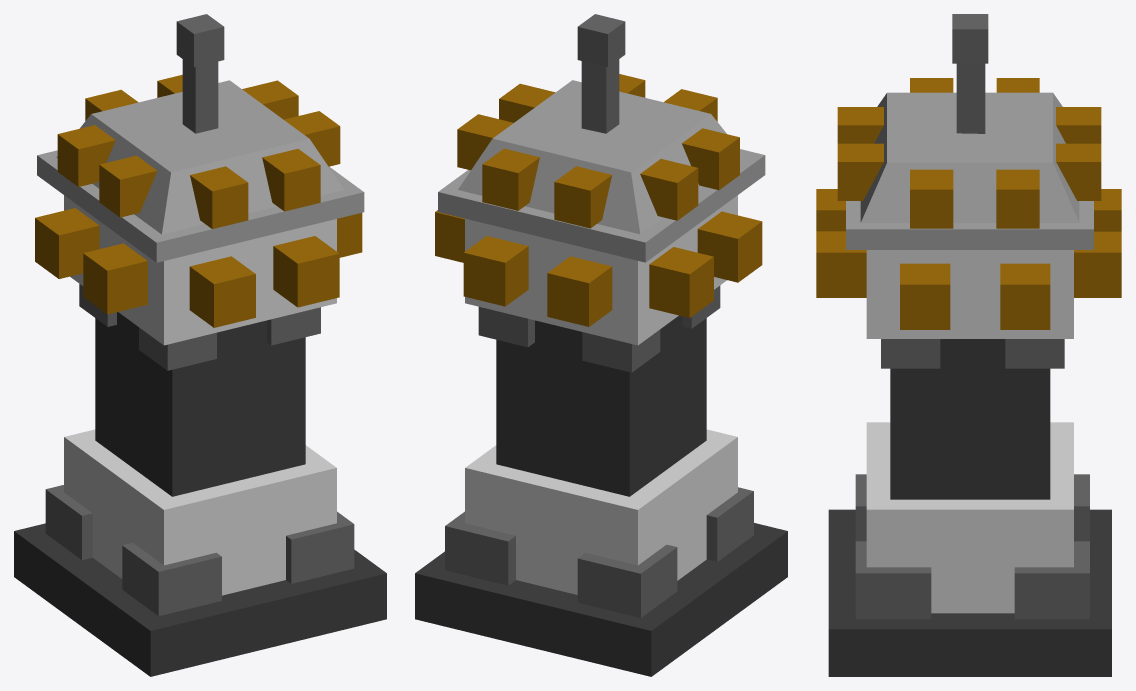
File: Shockwave_Tower.fbx
3 renders of one model, left to right at view 1: azimuth 30°, elevation 25°; view 2: azimuth 150°, elevation 25°; view 3: azimuth 270°, elevation 25°, orthographic. The views are drawn at different scales.
Parts seen in each view (by area): view 1: shock, Rod; view 2: shock, Rod; view 3: shock, Rod.
Part boxes in pixels (bbox=[...]): shock: bbox=[14, 150, 386, 676]; Rod: bbox=[56, 14, 343, 234]; shock: bbox=[415, 149, 787, 676]; Rod: bbox=[457, 14, 745, 234]; shock: bbox=[816, 189, 1121, 676]; Rod: bbox=[837, 14, 1101, 228].
Bounding box in the file's own units: 0.9707 × 2.09 × 0.9707.
